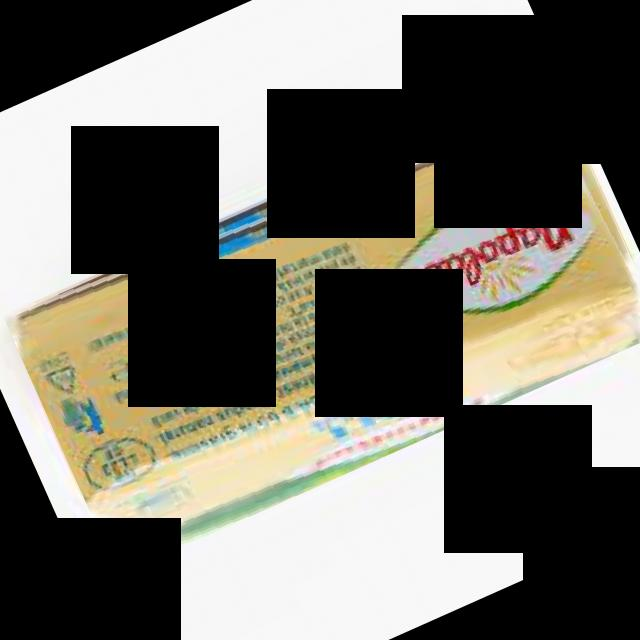butter: (2, 71, 640, 575)
